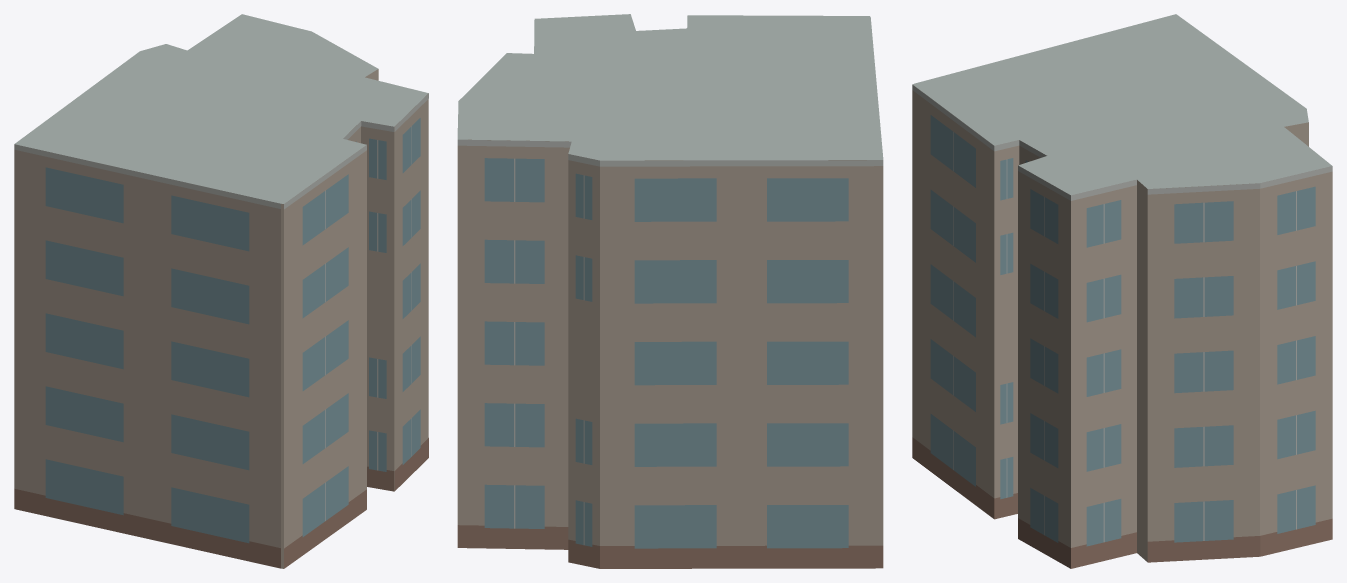
The model's file is survey-upis-32574390.glb.
3 renders of one model, left to right at view 1: azimuth 30°, elevation 25°; view 2: azimuth 150°, elevation 25°; view 3: azimuth 270°, elevation 25°, orthographic. The views are drawn at different scales.
Parts seen in each view (by area): view 1: survey-upis-32574390.tmp; view 2: survey-upis-32574390.tmp; view 3: survey-upis-32574390.tmp.
Boxes of the visible parts, <box> form: survey-upis-32574390.tmp: <box>14,14,428,568</box>; survey-upis-32574390.tmp: <box>457,14,883,568</box>; survey-upis-32574390.tmp: <box>912,14,1332,568</box>.
Size of the model in its own units: 16.99 by 16.3 by 16.63.
